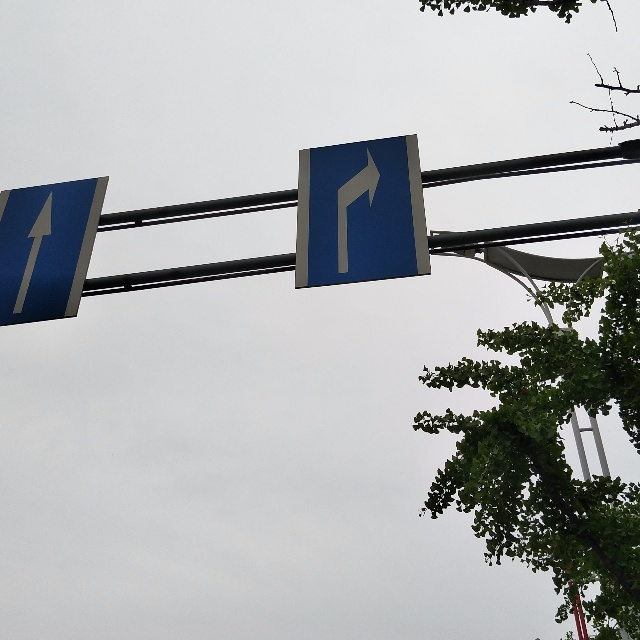right: (296, 134, 434, 289)
straight: (1, 175, 110, 326)
